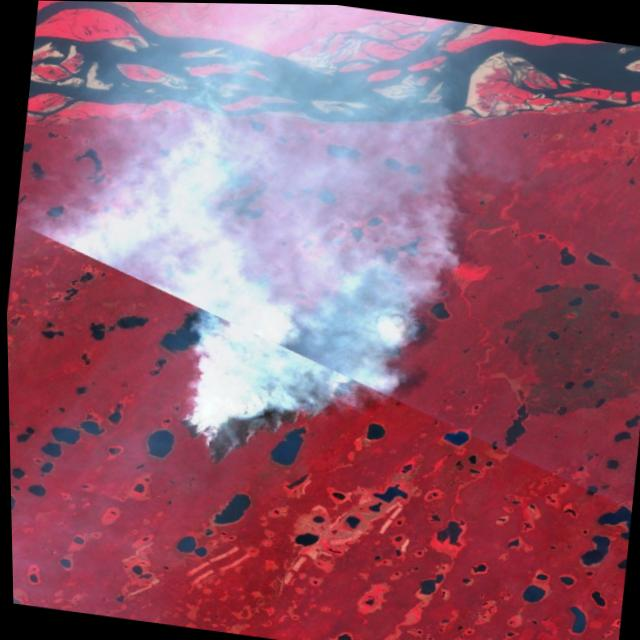fire: (167, 230, 422, 491)
